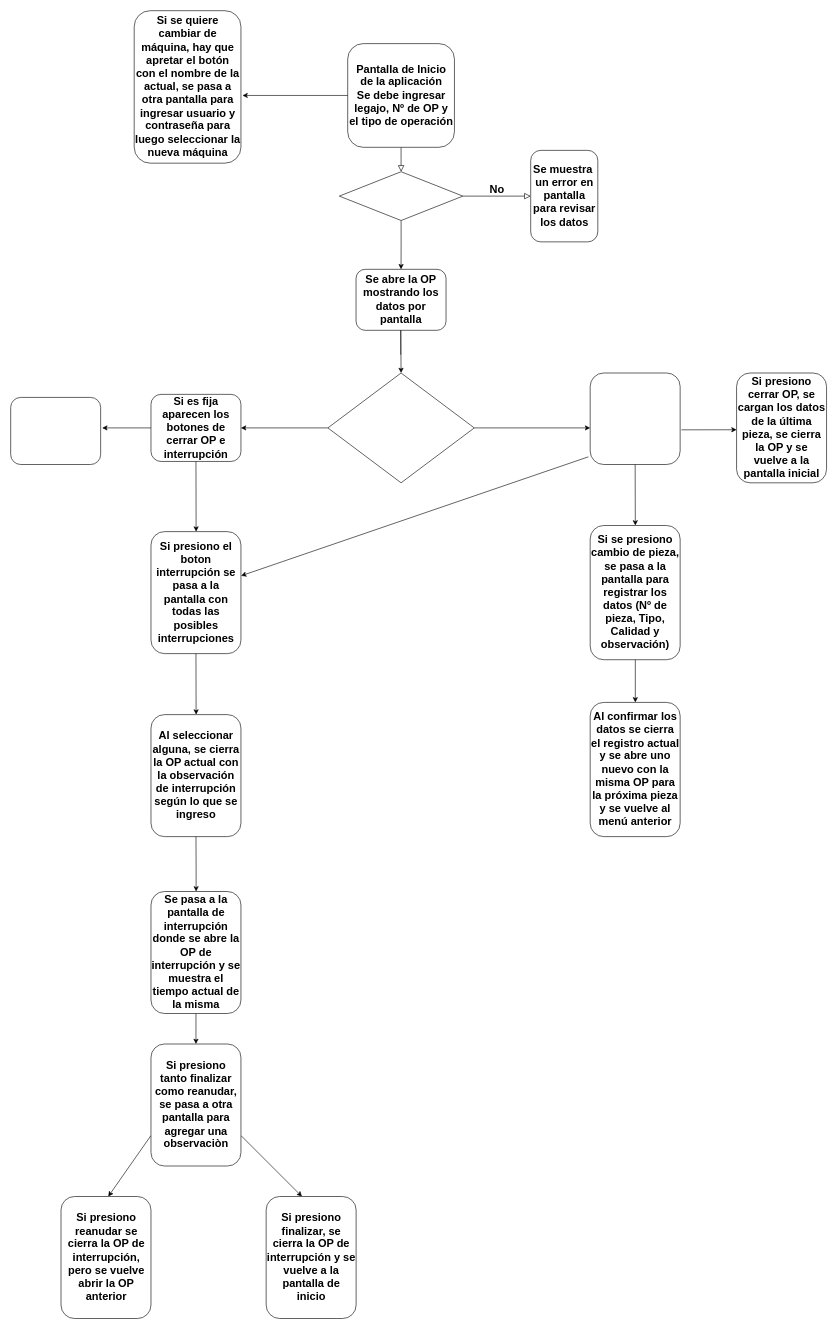
Some shapes in this 838 by 1329 pixel diagram are drawn without their labels. The shapes that lost their labels are listed below. From the top down, each one's centre as x and y in pixels, then its label:
[401,196]: Los datos son validos
[55,431]: Si presiono cerrar OP, se cierra el registro actual asociado
[400,427]: Determino si la OP es fija o única
[635,418]: Si es única aparecen los botones de cerrar OP, interrupción y cambio de pieza
